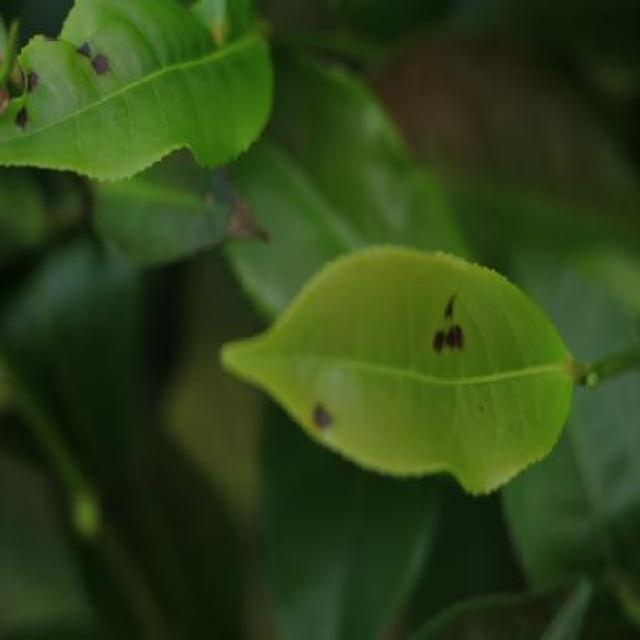Tea Mosquito bug infested leaf: (256, 248, 618, 484), (0, 0, 171, 158)
